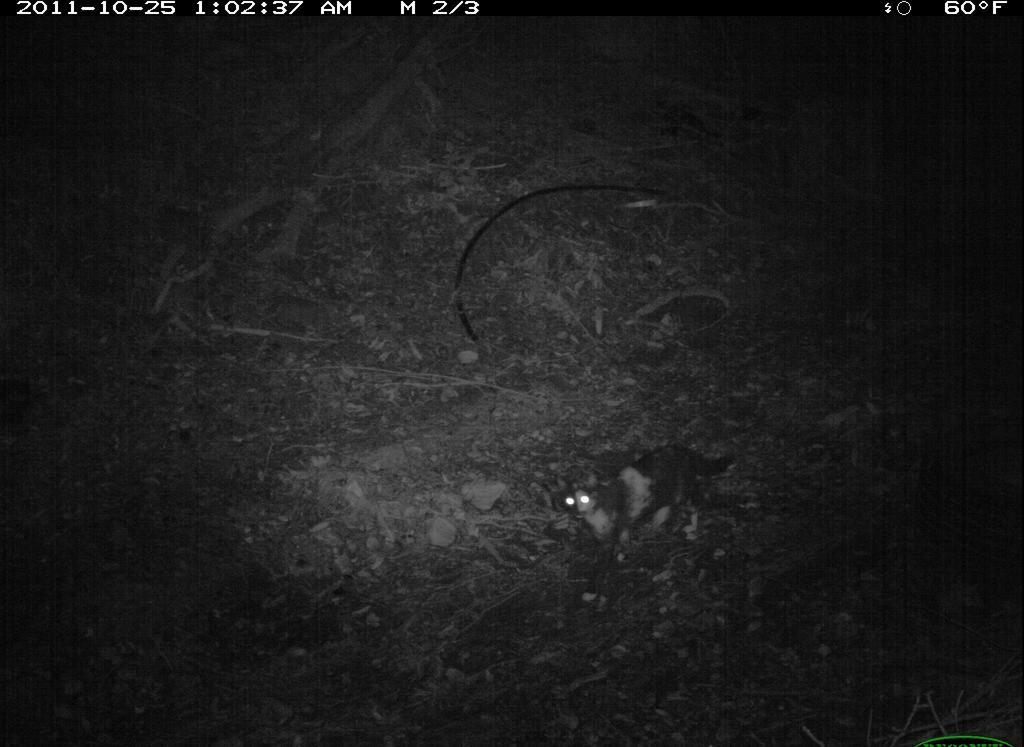cat: (543, 420, 760, 583)
